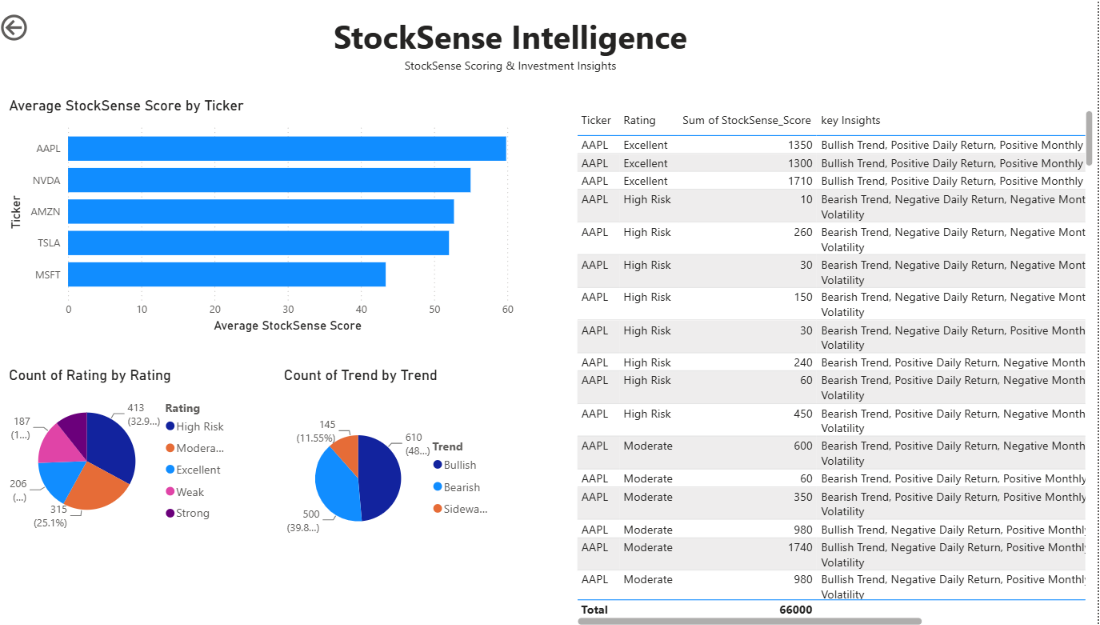

The page's visual inventory and layout, read from the dashboard file:
{"tool":"powerbi","page":{"name":"Stocksense Intelligence","canvas":[1280,720],"ordinal":3},"visuals":[{"type":"barChart","fields":{"Category":["stock_data.Ticker"],"Y":["Measures (3).Average StockSense Score"]},"box":[9.6,100.2,596.9,279.9],"z":0},{"type":"pieChart","fields":{"Category":["stock_data.Rating"],"Y":["CountNonNull(stock_data.Rating)"]},"box":[9.6,414.4,270.3,201.7],"z":1000},{"type":"pieChart","fields":{"Category":["stock_data.Trend"],"Y":["CountNonNull(stock_data.Trend)"]},"box":[329.3,414.4,256.6,241.5],"z":2000},{"type":"tableEx","fields":{"Values":["stock_data.Ticker","stock_data.Rating","Sum(stock_data.StockSense_Score)","stock_data.key Insights"]},"box":[668.8,111.2,611.2,608.8],"z":3000},{"type":"actionButton","box":[0,0,100,40],"z":4000},{"type":"textbox","box":[367.5,0,460,80.8],"z":5000}]}

Visuals, with their boxes in screenshot pixels (x1, y1, x2, y2), scaled from the page's 1280x720 canvas onto the 1100x625 screenshot:
barChart - stock_data.Ticker x Measures (3).Average StockSense Score: 8, 87, 521, 330
pieChart - stock_data.Rating x CountNonNull(stock_data.Rating): 8, 360, 241, 535
pieChart - stock_data.Trend x CountNonNull(stock_data.Trend): 283, 360, 504, 569
tableEx - stock_data.Ticker x stock_data.Rating: 575, 97, 1099, 624
actionButton: 0, 0, 86, 35
textbox: 316, 0, 711, 70
